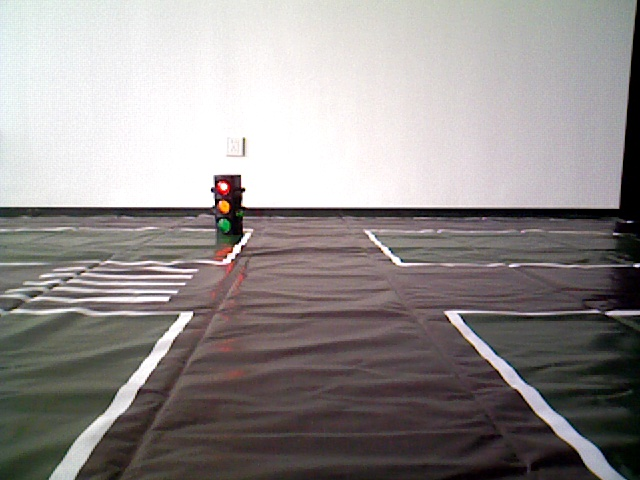red: (216, 175, 237, 239)
